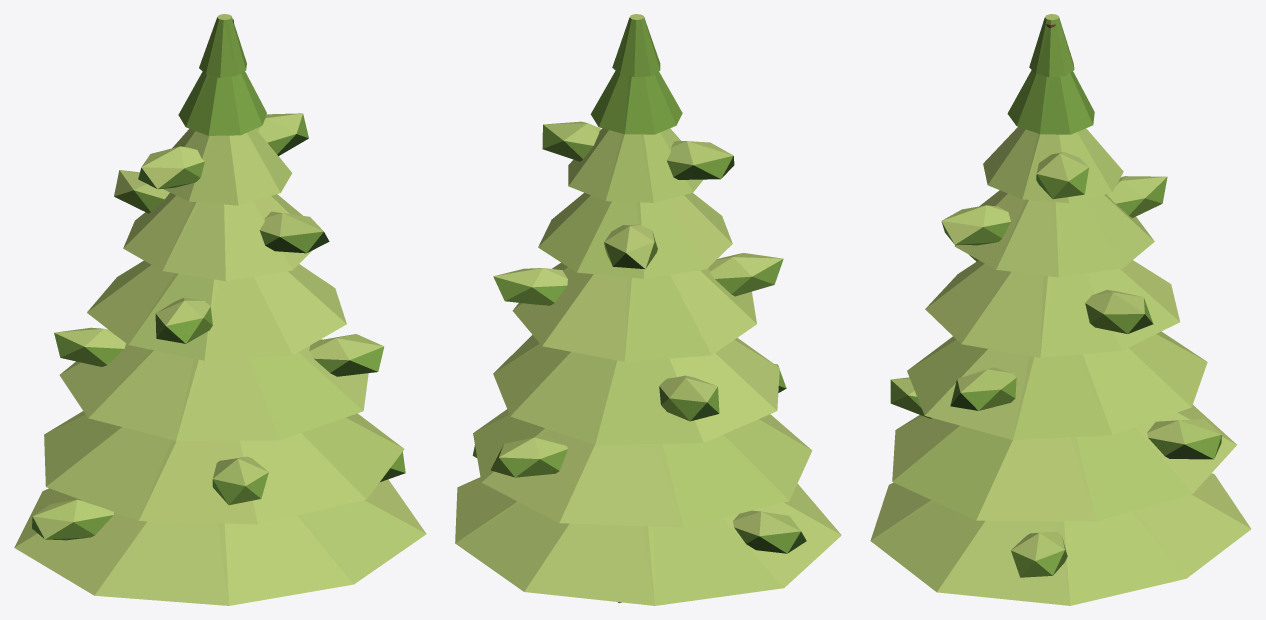
The picture shows the model from 3 angles, left to right: view 1: azimuth 30°, elevation 25°; view 2: azimuth 150°, elevation 25°; view 3: azimuth 270°, elevation 25°; orthographic projection.
Parts seen in each view (by area): view 1: WK_Tree_Spruce_SunlitDense_LOD0_High; view 2: WK_Tree_Spruce_SunlitDense_LOD0_High; view 3: WK_Tree_Spruce_SunlitDense_LOD0_High.
Boxes of the visible parts, <box> form: WK_Tree_Spruce_SunlitDense_LOD0_High: <box>14,14,426,605</box>; WK_Tree_Spruce_SunlitDense_LOD0_High: <box>455,14,841,605</box>; WK_Tree_Spruce_SunlitDense_LOD0_High: <box>870,14,1251,605</box>.
Size of the model in its own units: 4.56 by 7.06 by 4.32.
